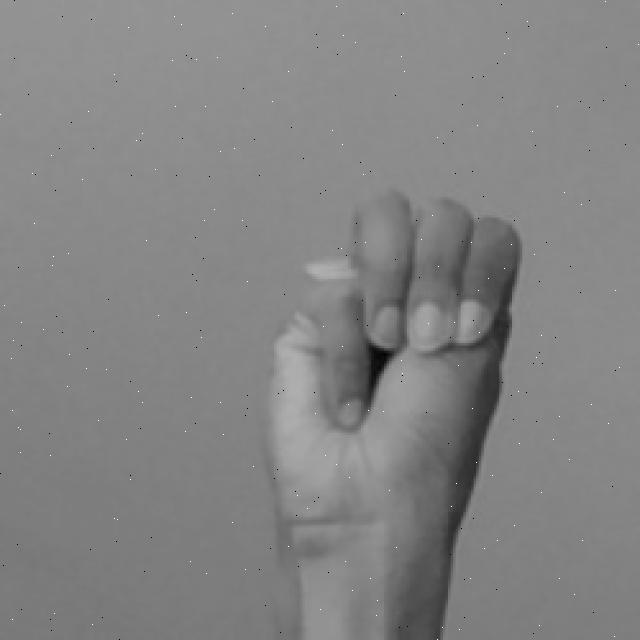M: (245, 182, 528, 640)
